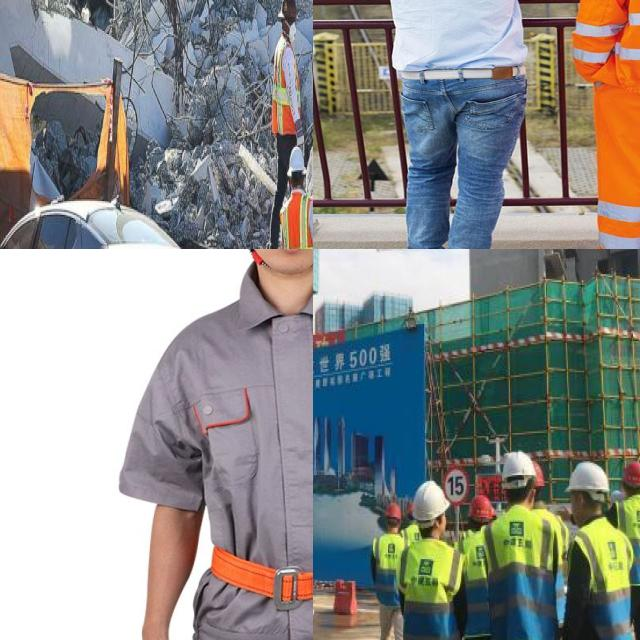Harness: (195, 297, 313, 606)
head_helmet: (408, 479, 450, 522), (566, 461, 610, 494), (501, 447, 536, 480), (467, 492, 494, 517), (619, 461, 640, 483), (286, 149, 304, 173), (385, 502, 403, 518)
person: (384, 0, 529, 249), (567, 459, 638, 640), (493, 447, 558, 640), (396, 479, 470, 640), (368, 488, 405, 640), (269, 0, 304, 145), (464, 495, 498, 640), (614, 453, 640, 640), (278, 151, 313, 249)
vest: (484, 510, 555, 640), (568, 524, 634, 640), (402, 540, 467, 640), (461, 524, 497, 640), (612, 492, 640, 587), (374, 531, 405, 609), (273, 45, 299, 131), (280, 200, 313, 249)
